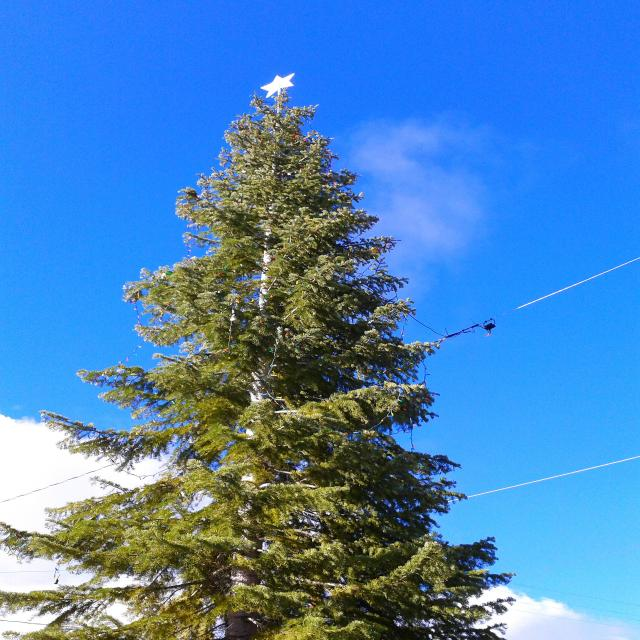Christmas-tree: (7, 90, 480, 640)
